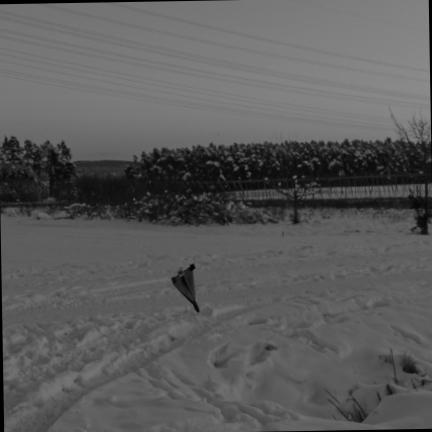Shahed: (172, 264, 198, 312)
